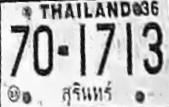0: (32, 24, 53, 75)
1: (78, 23, 86, 75), (125, 22, 132, 74)
3: (141, 22, 162, 74)
7: (95, 22, 115, 75), (10, 24, 30, 76)
SRN: (58, 79, 116, 107)
